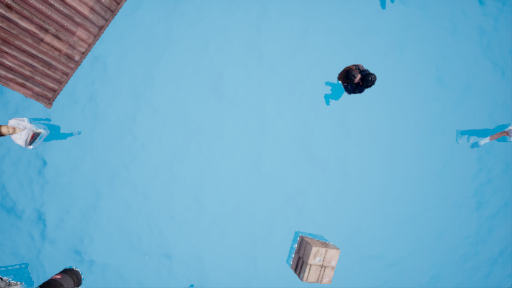person: (2, 115, 77, 152), (312, 59, 368, 107)
